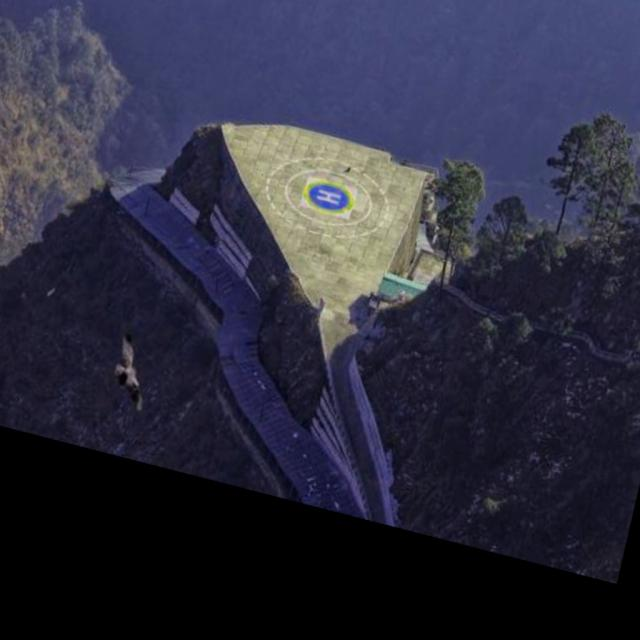helipad: (301, 178, 355, 214)
